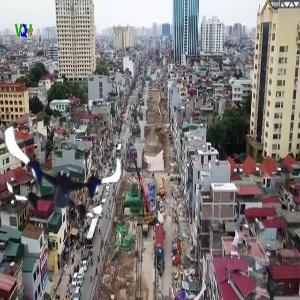drone: (4, 118, 127, 241)
